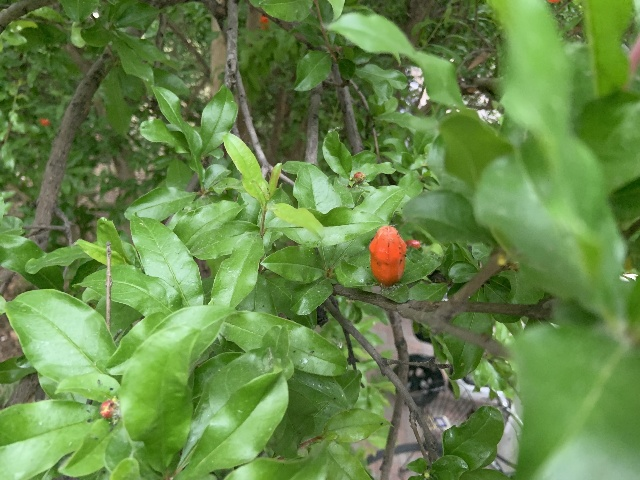bud: (369, 224, 406, 287), (405, 239, 420, 248)
